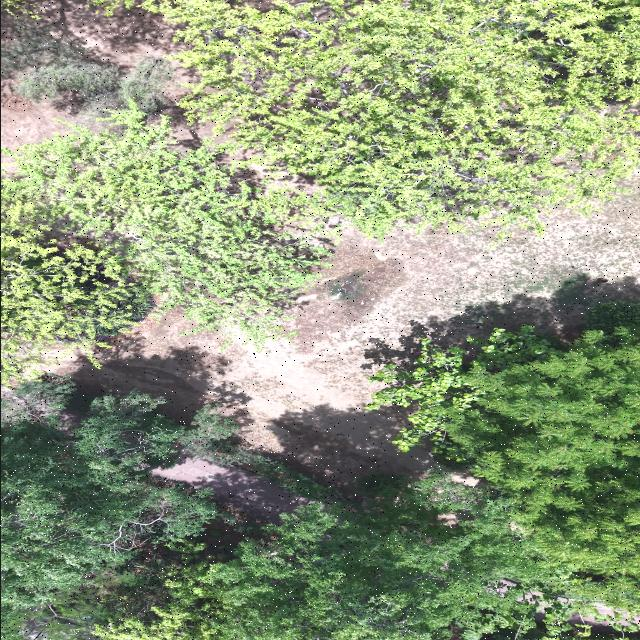DRY_AREA: (47, 176, 639, 483), (48, 177, 639, 483), (35, 0, 185, 68), (153, 459, 309, 523), (568, 605, 613, 627)
VEGETATION_TREE: (1, 0, 639, 639), (2, 0, 639, 377), (3, 380, 636, 639), (2, 379, 588, 639), (141, 0, 639, 236), (2, 109, 326, 374), (368, 325, 639, 613), (94, 476, 564, 639), (1, 376, 236, 639), (1, 378, 216, 624), (444, 328, 639, 597), (8, 523, 236, 639), (1, 233, 152, 383), (1, 18, 172, 117), (182, 405, 341, 503), (366, 339, 482, 451), (3, 568, 134, 639), (13, 58, 172, 116), (460, 602, 635, 639), (243, 455, 342, 503), (189, 406, 260, 465), (1, 376, 74, 425), (585, 302, 639, 331), (87, 0, 139, 15), (1, 0, 37, 19)
